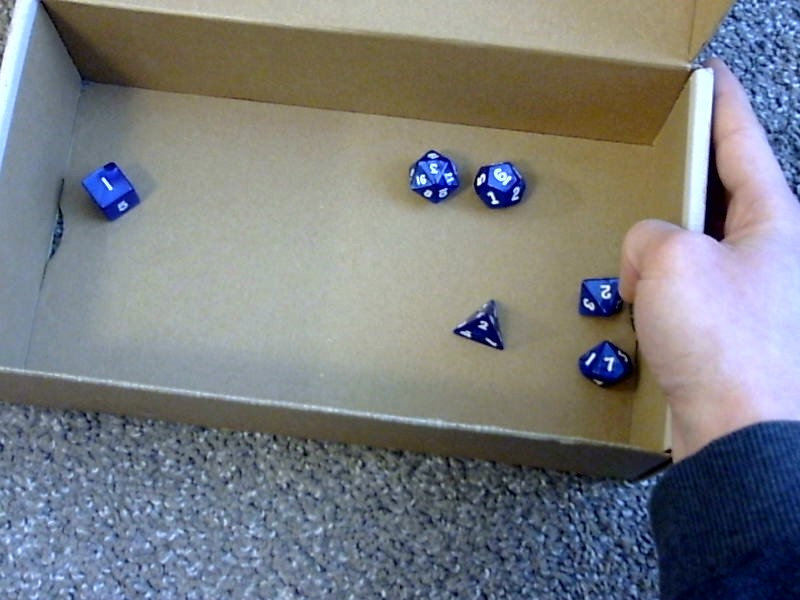d10 7: (573, 338, 635, 390)
d12 6: (471, 154, 526, 210)
d20 3: (403, 143, 460, 207)
d4 2: (451, 289, 507, 353)
d6 1: (75, 147, 142, 222)
d8 2: (572, 264, 624, 320)
